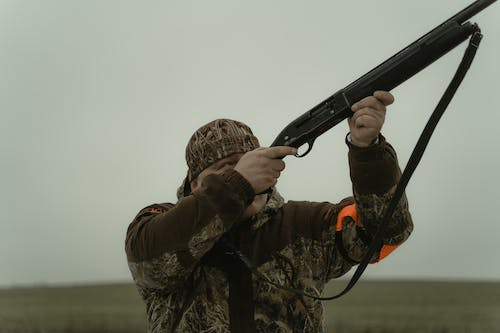gun: (253, 0, 500, 196)
